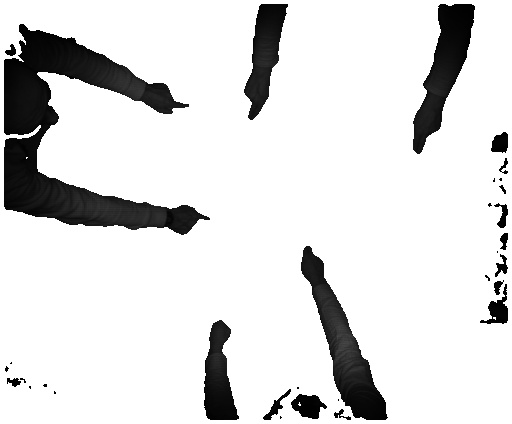fist: (208, 320, 231, 347)
hand: (408, 107, 447, 159), (169, 200, 215, 239), (147, 80, 191, 119), (296, 240, 332, 284), (240, 76, 271, 119)
